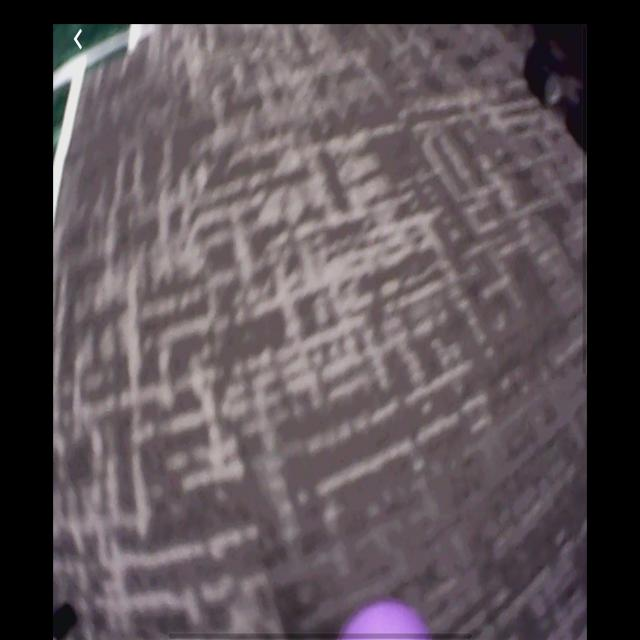ball: (338, 599, 432, 639)
